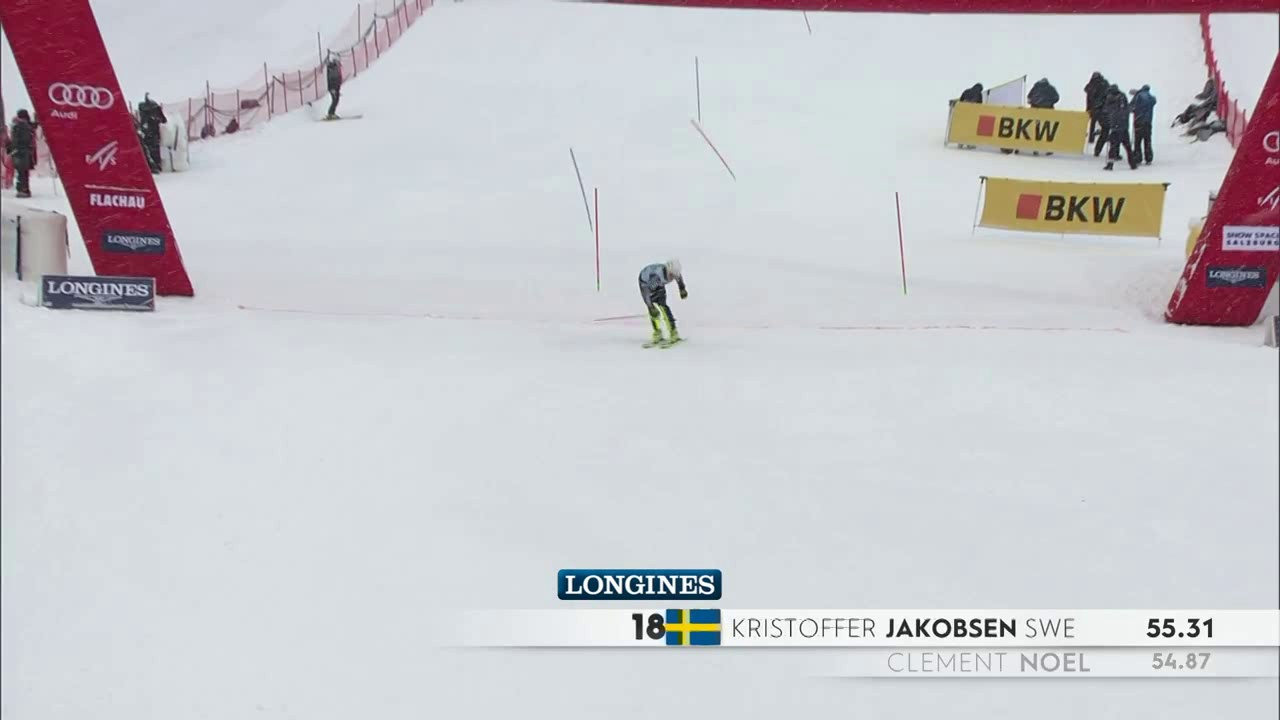audi: (47, 79, 122, 115), (1259, 125, 1279, 164)
longines: (561, 572, 728, 602), (102, 236, 163, 250)
